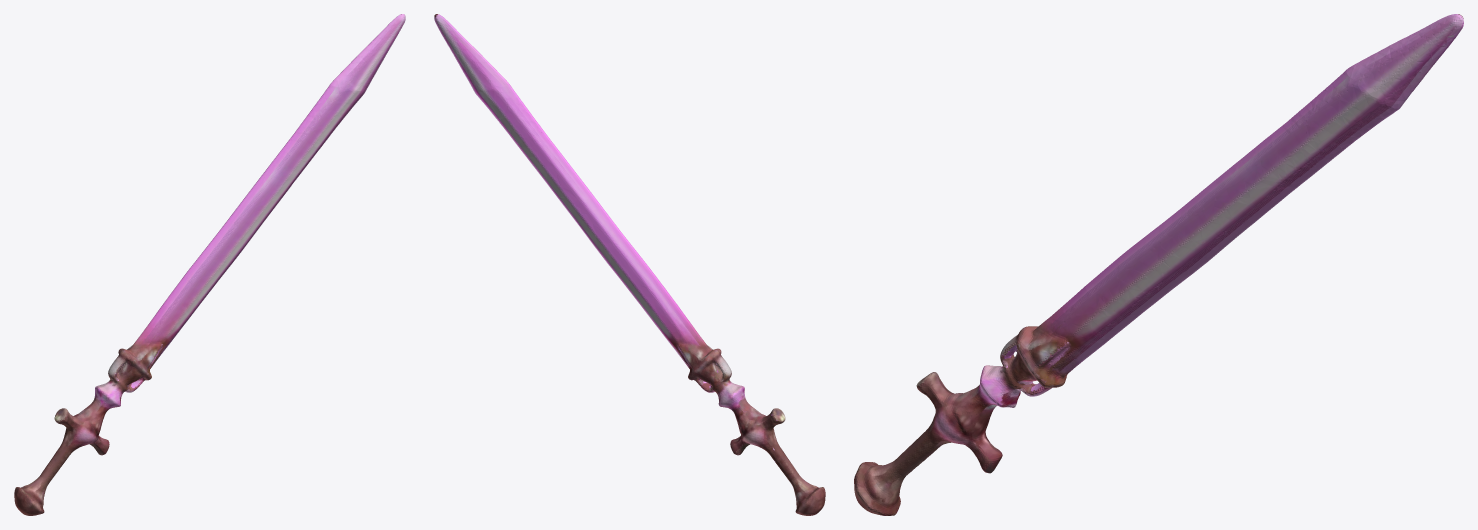
Rendered from nayla_weapon.glb.
3 views of the same model, side by side, from view 1: azimuth 30°, elevation 25°; view 2: azimuth 150°, elevation 25°; view 3: azimuth 330°, elevation 25° (orthographic). The views are drawn at different scales.
Visible parts, largest first — view 1: tmpf6spe372.ply; view 2: tmpf6spe372.ply; view 3: tmpf6spe372.ply.
Boxes of the visible parts, x1=… form: tmpf6spe372.ply: x1=14, y1=14, x2=405, y2=515; tmpf6spe372.ply: x1=434, y1=14, x2=825, y2=515; tmpf6spe372.ply: x1=854, y1=14, x2=1463, y2=515.
Size of the model in its own units: 1.98 by 1.99 by 0.155.
1 material, 1 textured.
